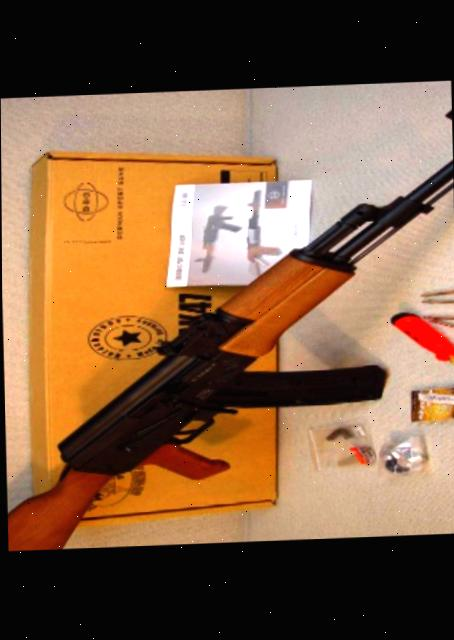rifle: (1, 101, 454, 550)
